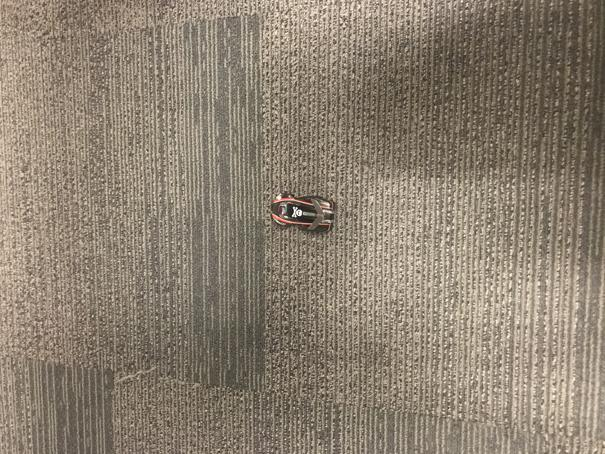Skull: (269, 193, 335, 236)
